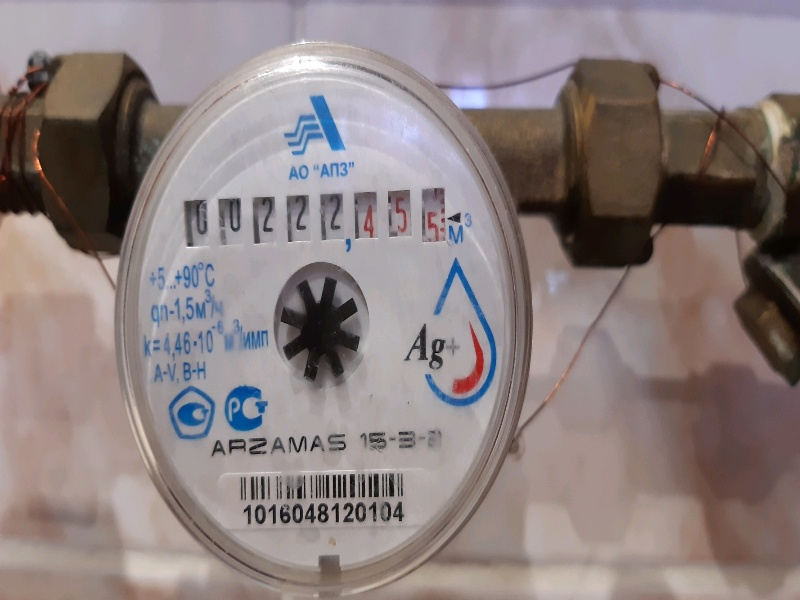meter: (180, 188, 443, 248)
